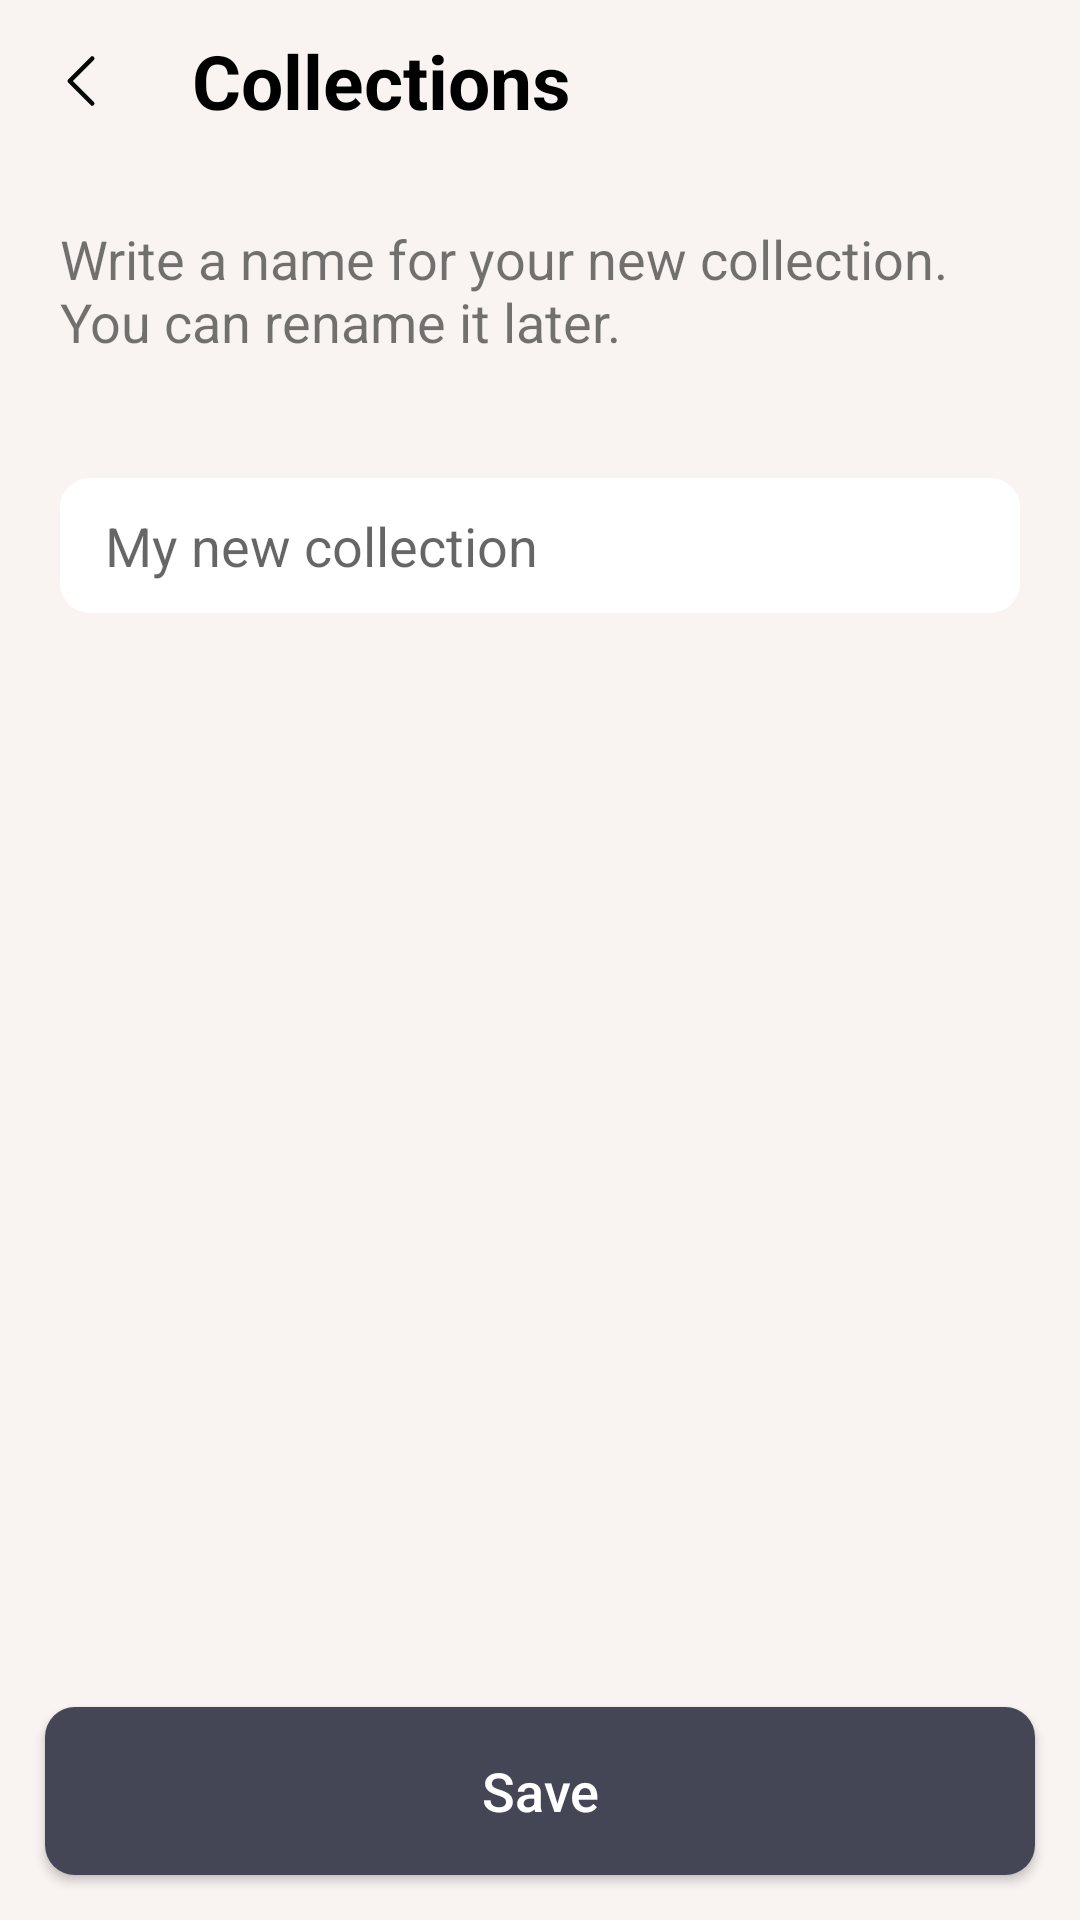

Icons on this 1080px x 1920px Android screen, each with its box as rect(x1, y1, x2, y2):
back: rect(67, 56, 95, 106)
